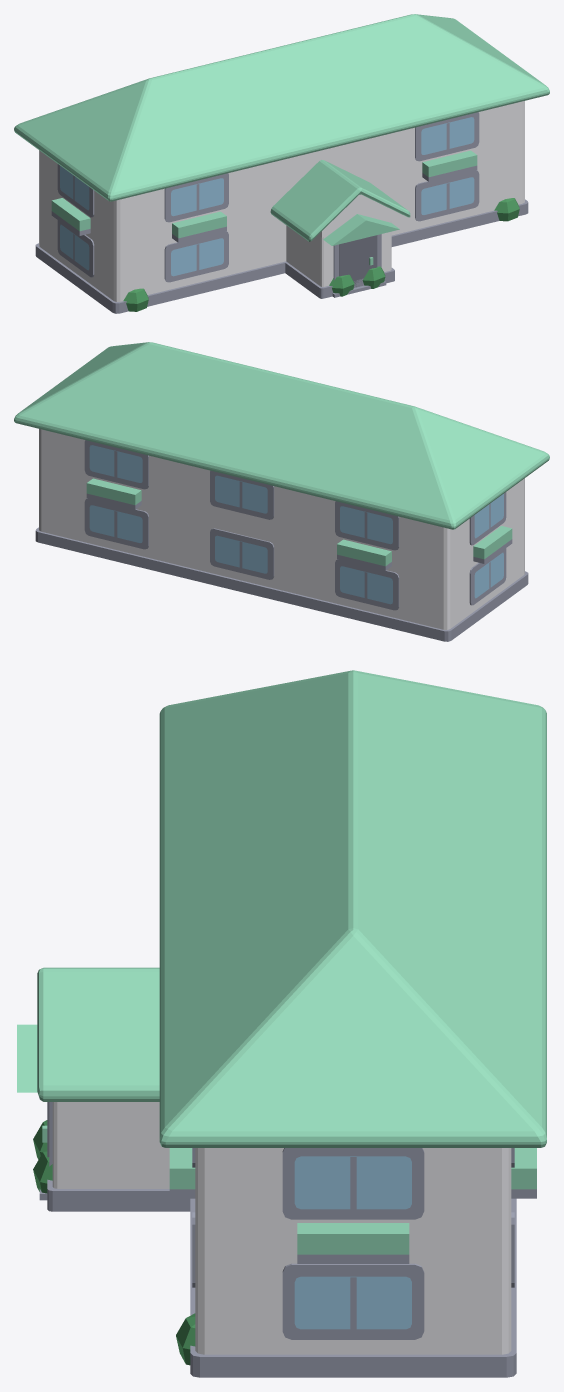
Rendered from house-2x1-2f-third-tone-a.glb.
3 views of the same model, one above another, from view 1: azimuth 30°, elevation 25°; view 2: azimuth 150°, elevation 25°; view 3: azimuth 270°, elevation 25° (orthographic). The views are drawn at different scales.
Parts seen in each view (by area): view 1: house-2x1-2f-third-tone-a; view 2: house-2x1-2f-third-tone-a; view 3: house-2x1-2f-third-tone-a.
Part boxes in pixels (x1,y1,x2,y2): house-2x1-2f-third-tone-a: [14, 14, 549, 313]; house-2x1-2f-third-tone-a: [14, 342, 549, 641]; house-2x1-2f-third-tone-a: [17, 670, 546, 1377].
Size of the model in its own units: 2 by 0.812 by 1.04.
Materials: 1 (1 with a texture image).
